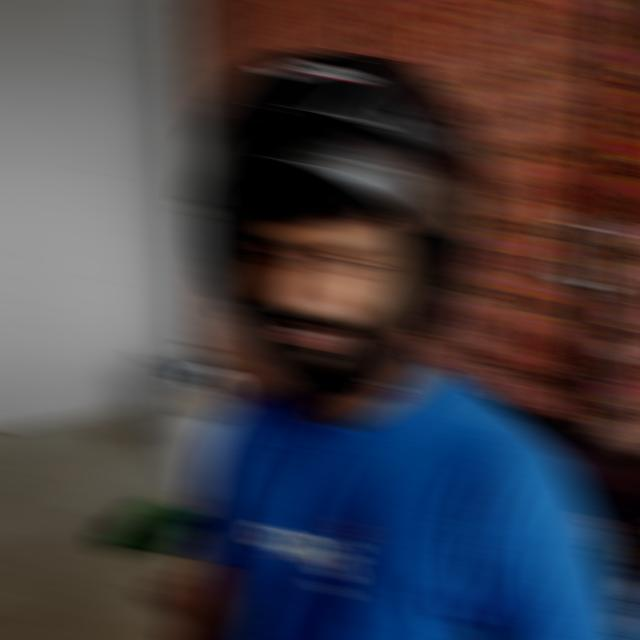With Helmet: (183, 45, 493, 340)
